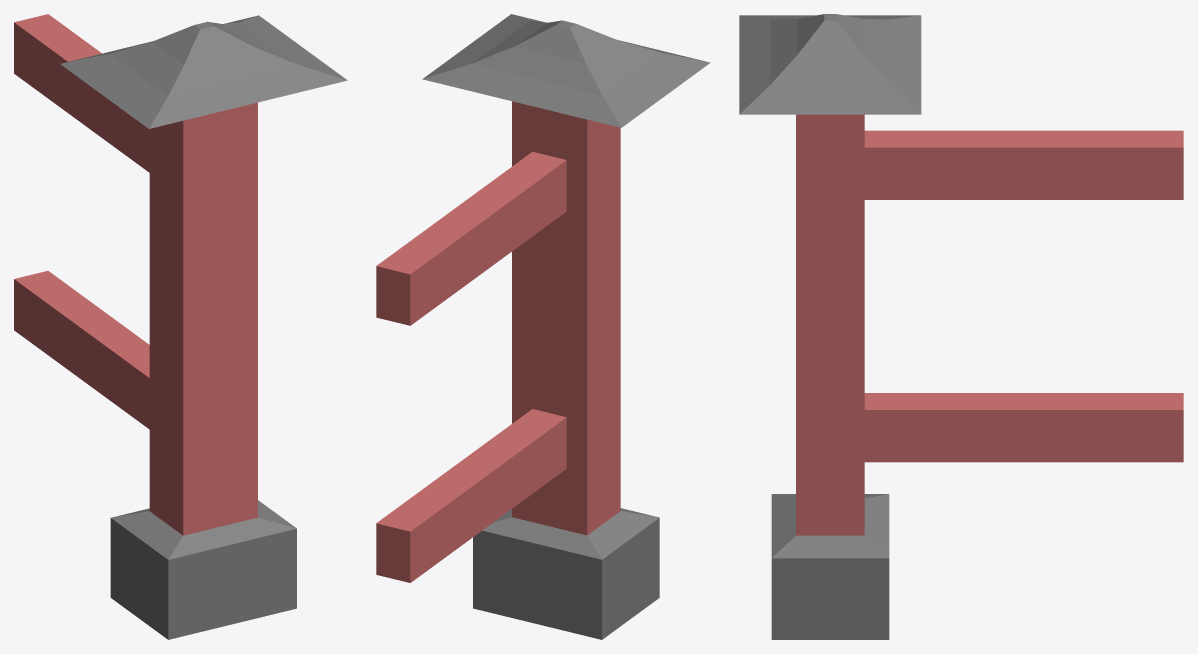
The model's file is gate_2.fbx.
3 renders of one model, left to right at view 1: azimuth 30°, elevation 25°; view 2: azimuth 150°, elevation 25°; view 3: azimuth 270°, elevation 25°, orthographic. The views are drawn at different scales.
Parts seen in each view (by area): view 1: Asian_Prop_Torii_Gate_Railing_01, Asian_Prop_Torii_Gate_Railing_01.001; view 2: Asian_Prop_Torii_Gate_Railing_01, Asian_Prop_Torii_Gate_Railing_01.001; view 3: Asian_Prop_Torii_Gate_Railing_01, Asian_Prop_Torii_Gate_Railing_01.001.
Boxes of the visible parts, x1,y1,x2,y2 form: Asian_Prop_Torii_Gate_Railing_01: [14, 14, 257, 535]; Asian_Prop_Torii_Gate_Railing_01.001: [60, 15, 347, 639]; Asian_Prop_Torii_Gate_Railing_01: [376, 101, 620, 582]; Asian_Prop_Torii_Gate_Railing_01.001: [422, 14, 710, 639]; Asian_Prop_Torii_Gate_Railing_01: [796, 114, 1183, 535]; Asian_Prop_Torii_Gate_Railing_01.001: [739, 14, 921, 639].
Bounding box in the file's own units: 124 × 345 × 235.
